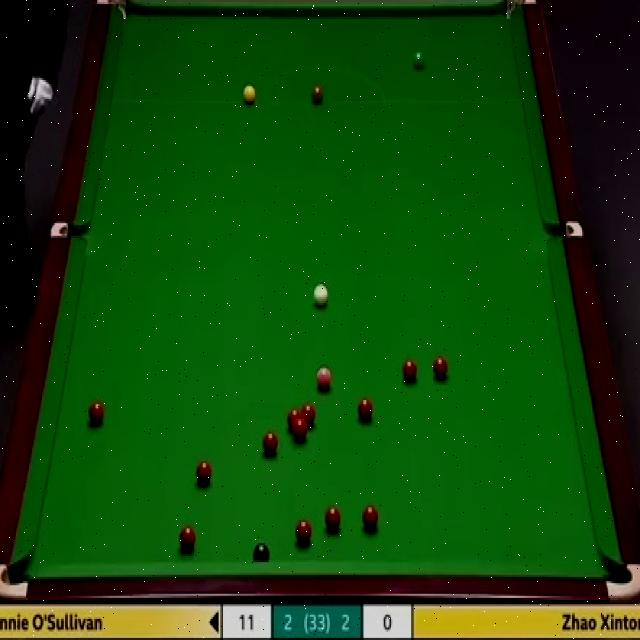black-ball: (253, 543, 270, 563)
brown-ball: (309, 82, 324, 106)
green-ball: (410, 51, 426, 71)
pink-ball: (316, 363, 333, 391)
red-ball: (88, 400, 107, 428), (401, 357, 418, 387), (362, 504, 379, 532), (195, 459, 212, 487), (179, 525, 196, 552), (357, 396, 372, 424), (296, 519, 312, 545), (325, 506, 341, 532), (432, 358, 448, 382), (302, 404, 316, 430), (263, 431, 278, 455), (293, 421, 307, 442), (288, 408, 301, 429)
white-ball: (312, 280, 329, 309)
yellow-ball: (242, 83, 256, 104)
